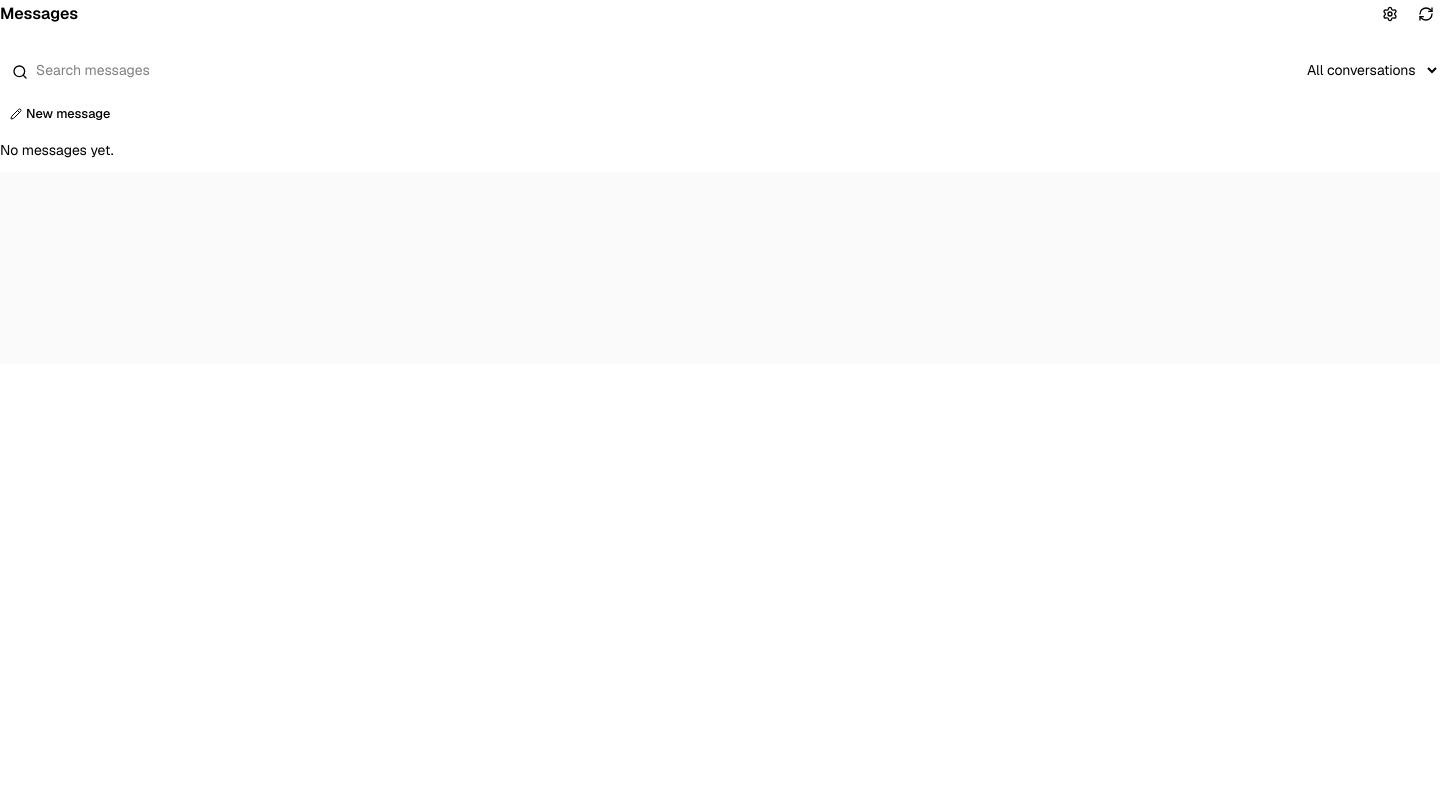
Test: preserves the draft and explains uncertain delivery after a timeout
Step 1. Click the button "New message" → [60, 114], box x1=0 y1=100 x2=120 y2=128
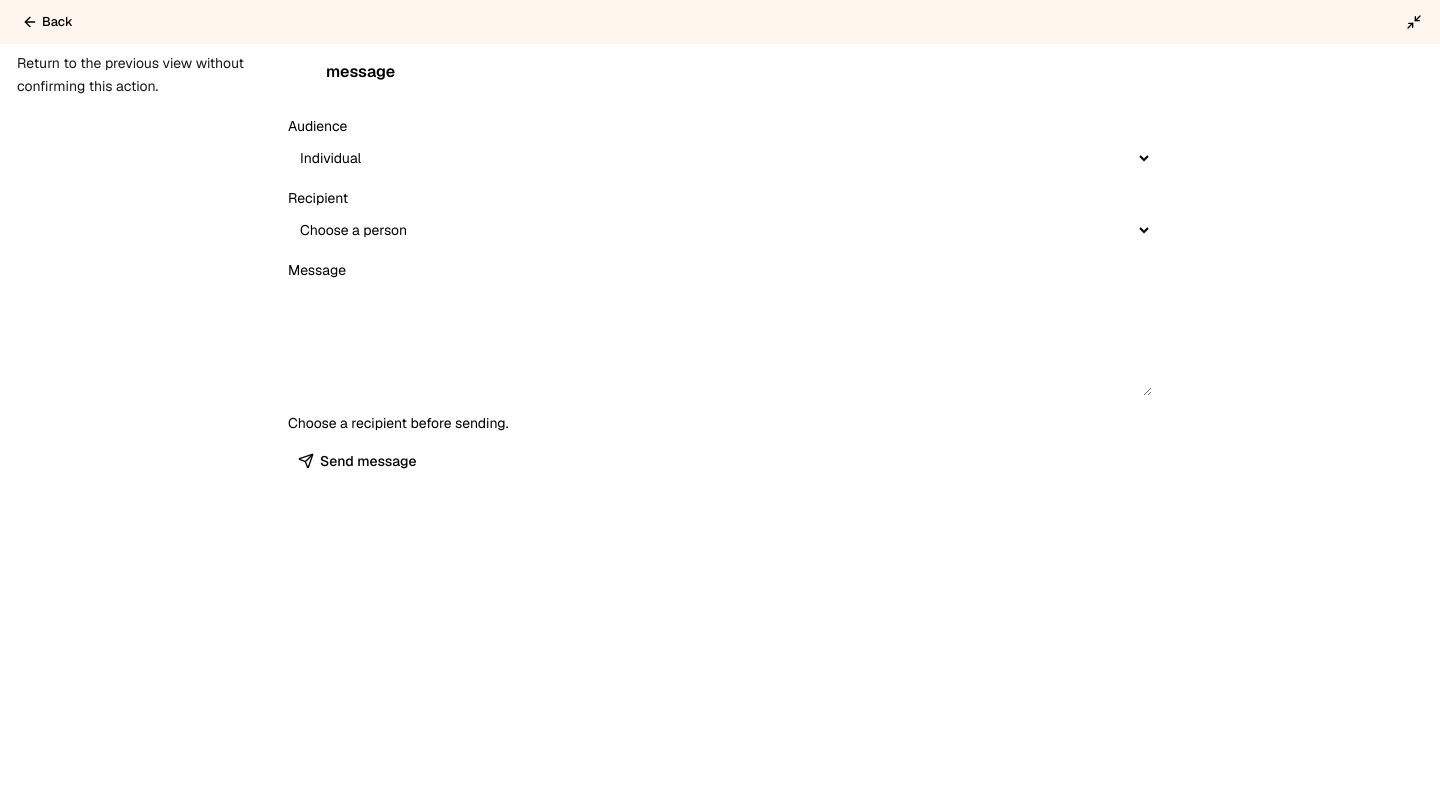
Step 2. Select "employee@example.com" in the dropdown labelled "Recipient" → [720, 230], box x1=288 y1=212 x2=1152 y2=248
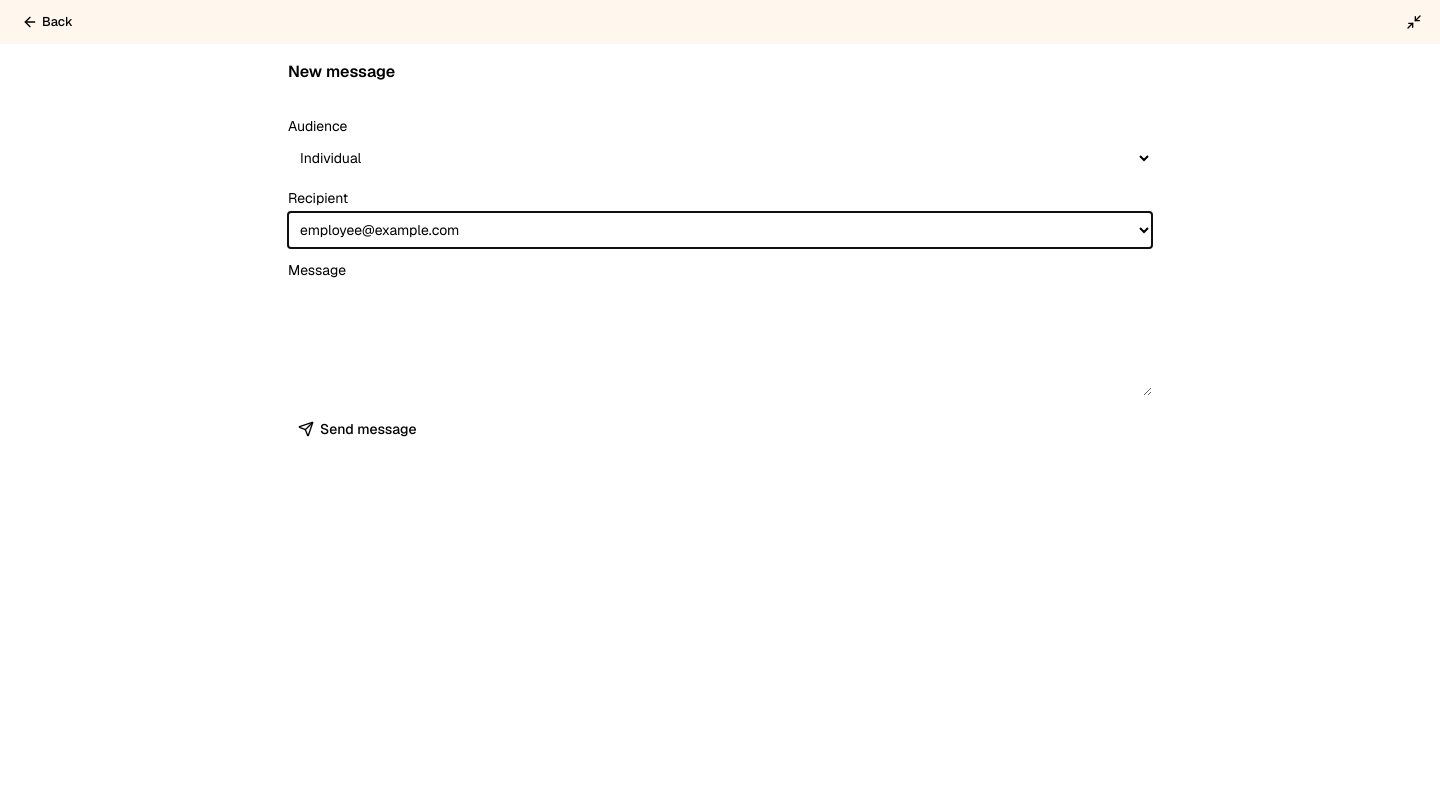
Step 3. Type "Private hello" into the text box labelled "Message" → [720, 340], box x1=288 y1=284 x2=1152 y2=396
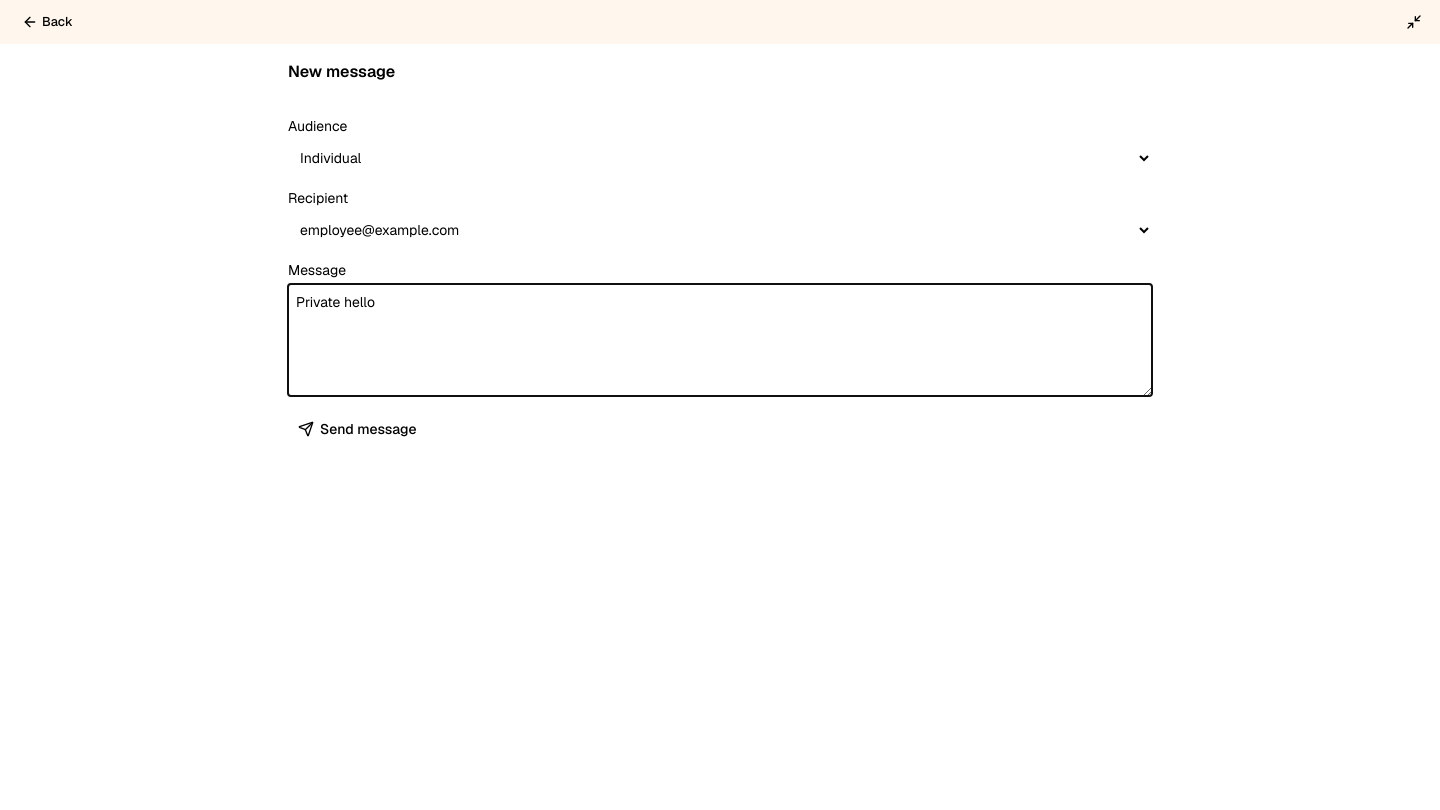
Step 4. Click the button "Send message" → [357, 429], box x1=288 y1=413 x2=426 y2=445
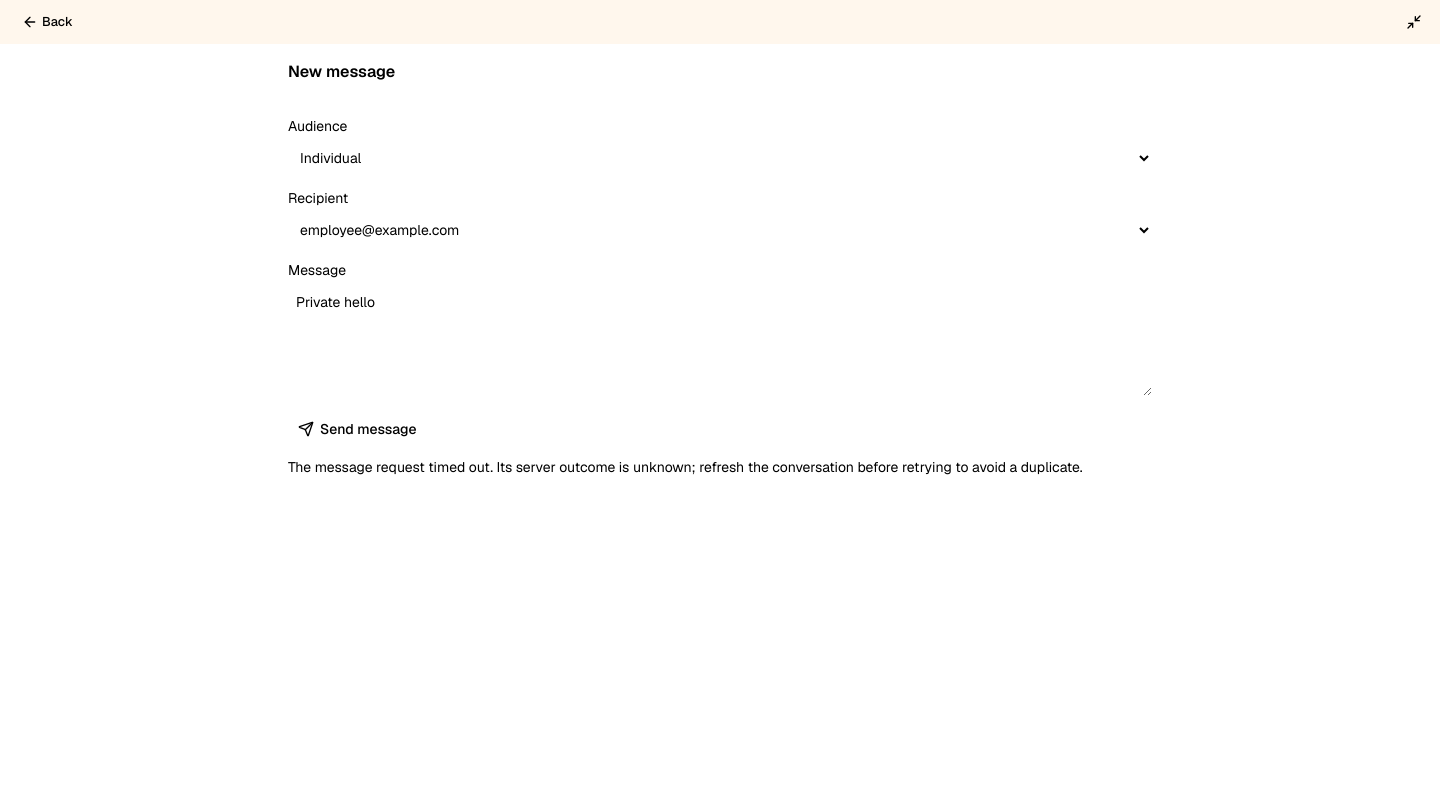
Now the button "Send message" is enabled, box x1=288 y1=413 x2=426 y2=445
Now the message shows "server outcome is unknown", box x1=288 y1=458 x2=1083 y2=476
